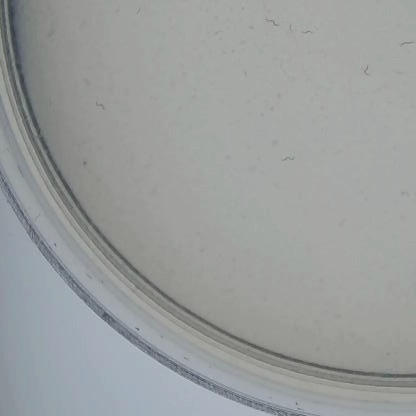worm: (263, 14, 280, 31), (359, 62, 372, 82), (89, 100, 110, 111), (80, 76, 100, 87), (281, 151, 296, 165), (400, 36, 416, 49), (301, 27, 319, 36), (132, 6, 143, 18), (288, 21, 295, 36)
